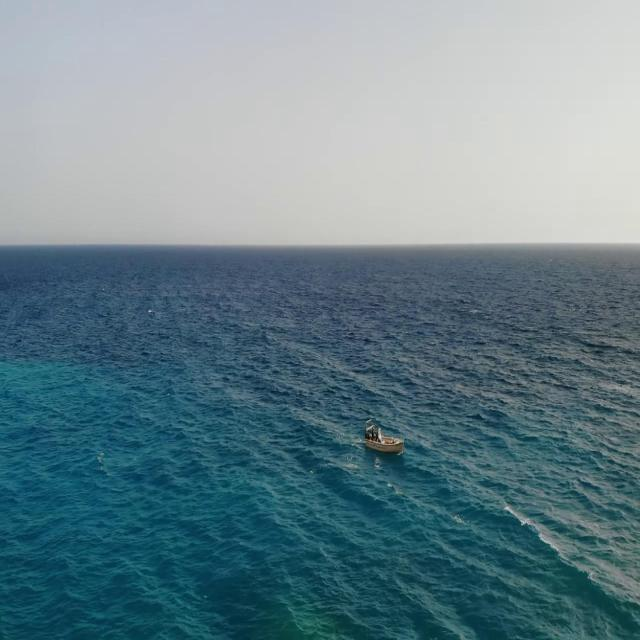boat: (362, 414, 395, 462)
